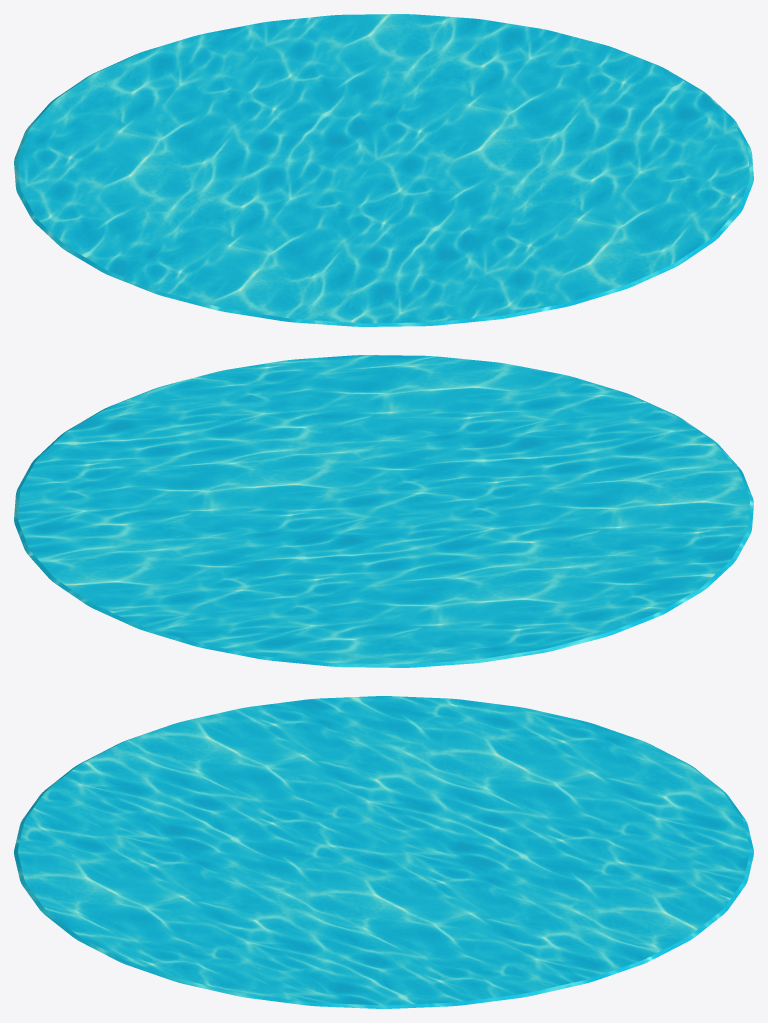
File: water.fbx
3 views of the same model, one above another, from view 1: azimuth 30°, elevation 25°; view 2: azimuth 150°, elevation 25°; view 3: azimuth 270°, elevation 25° (orthographic).
Parts seen in each view (by area): view 1: Circle; view 2: Circle; view 3: Circle.
Boxes of the visible parts, left/top/right/bottom form: Circle: left=14, top=14, right=753, bottom=326; Circle: left=14, top=355, right=753, bottom=667; Circle: left=14, top=696, right=753, bottom=1008.
Size of the model in its own units: 1150 by 3.33 by 1150.
